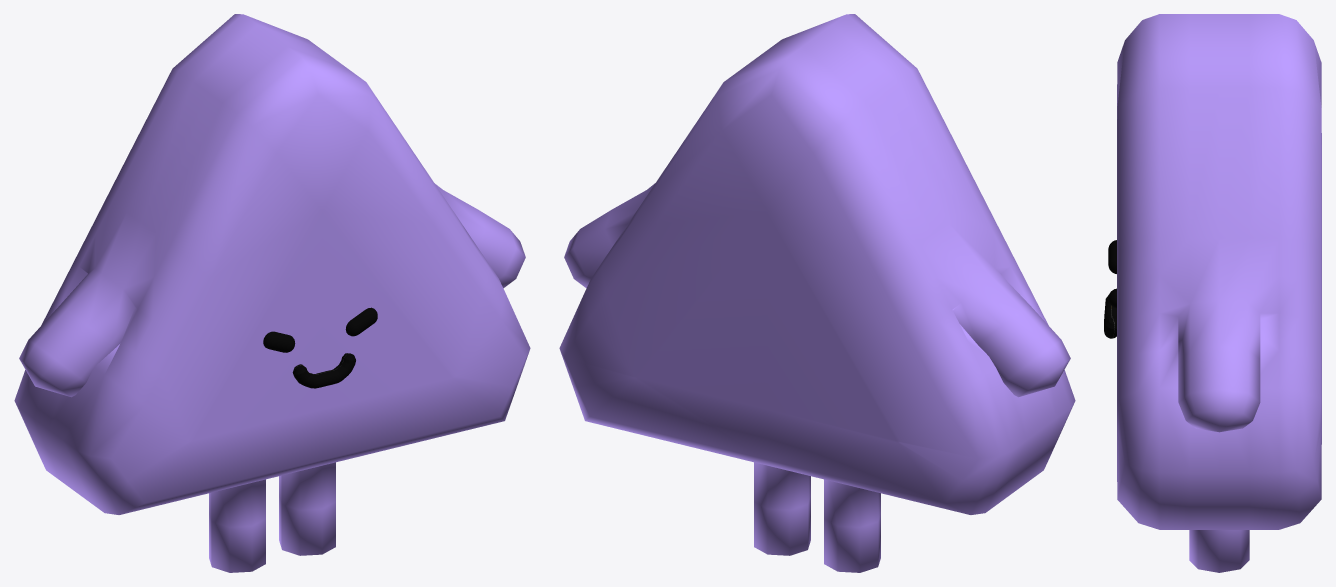
The model's file is mascot.glb.
The picture shows the model from 3 angles, left to right: view 1: azimuth 30°, elevation 25°; view 2: azimuth 150°, elevation 25°; view 3: azimuth 270°, elevation 25°; orthographic projection. The views are drawn at different scales.
Visible parts, largest first — view 1: Roundcube, Roundcube.001, Cylinder; view 2: Roundcube; view 3: Roundcube, Cylinder, Roundcube.001.
Boxes of the visible parts, bbox=[...] form: Roundcube: bbox=[14, 14, 530, 572]; Roundcube.001: bbox=[263, 307, 377, 352]; Cylinder: bbox=[292, 353, 355, 388]; Roundcube: bbox=[559, 14, 1075, 572]; Roundcube: bbox=[1117, 14, 1321, 572]; Cylinder: bbox=[1104, 295, 1116, 338]; Roundcube.001: bbox=[1108, 240, 1116, 307].
Size of the model in its own units: 1.86 by 1.85 by 0.692.
Materials: 2 (2 with a texture image).
